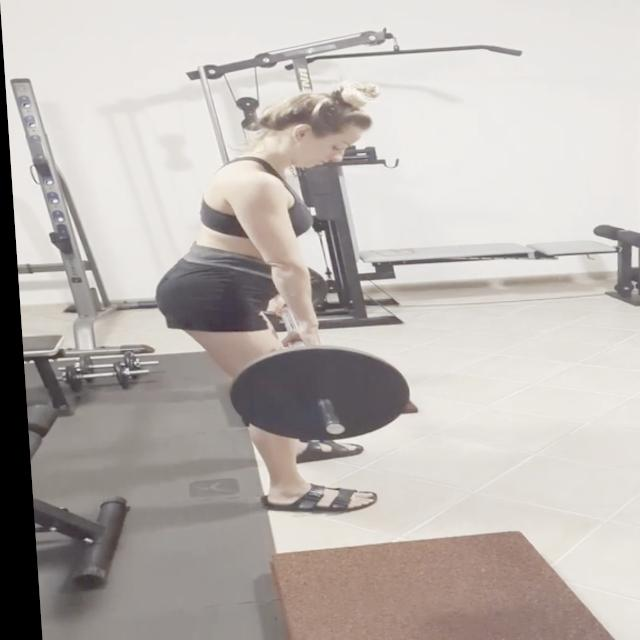barbell: (217, 343, 413, 446)
